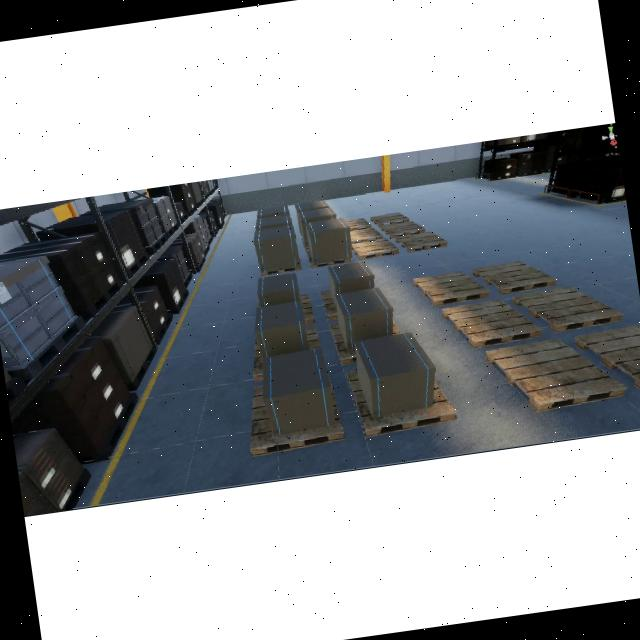wooden_pallet: (488, 340, 629, 412), (249, 373, 347, 457), (347, 372, 459, 439), (513, 285, 622, 332), (441, 298, 543, 347), (574, 322, 640, 389), (412, 268, 490, 306), (471, 261, 554, 294), (395, 231, 448, 253), (351, 238, 399, 260), (382, 220, 426, 237), (371, 212, 409, 226), (350, 227, 383, 243), (312, 258, 352, 269), (262, 266, 304, 276), (344, 218, 372, 231)
